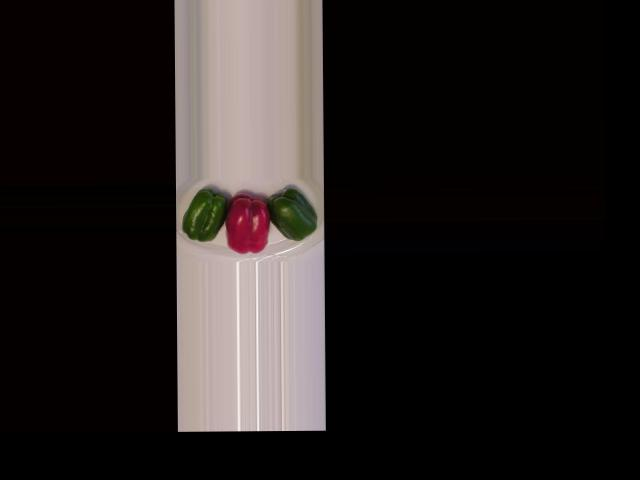bell_pepper: (267, 183, 320, 247)
